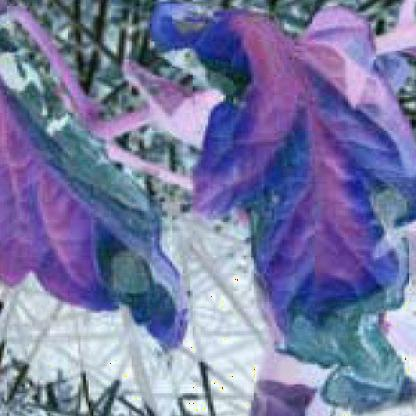Tomato Early blight leaf: (183, 10, 413, 376), (3, 81, 176, 361)
